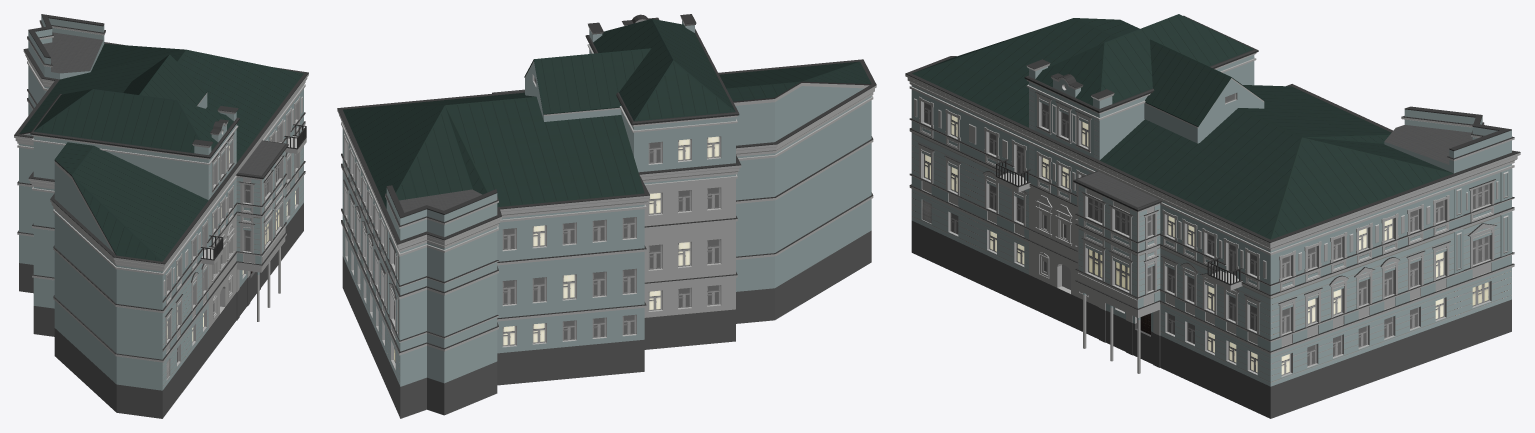
3 views of the same model, side by side, from view 1: azimuth 30°, elevation 25°; view 2: azimuth 150°, elevation 25°; view 3: azimuth 270°, elevation 25° (orthographic). The views are drawn at different scales.
Visible parts, largest first — view 1: 01040-50@114560; view 2: 01040-50@114560; view 3: 01040-50@114560.
Part boxes in pixels (x1,y1,x2,y2): 01040-50@114560: [14, 14, 308, 418]; 01040-50@114560: [337, 14, 876, 418]; 01040-50@114560: [905, 14, 1520, 418].
Bounding box in the file's own units: 29.54 × 19.58 × 41.18.
1 material, 1 textured.
